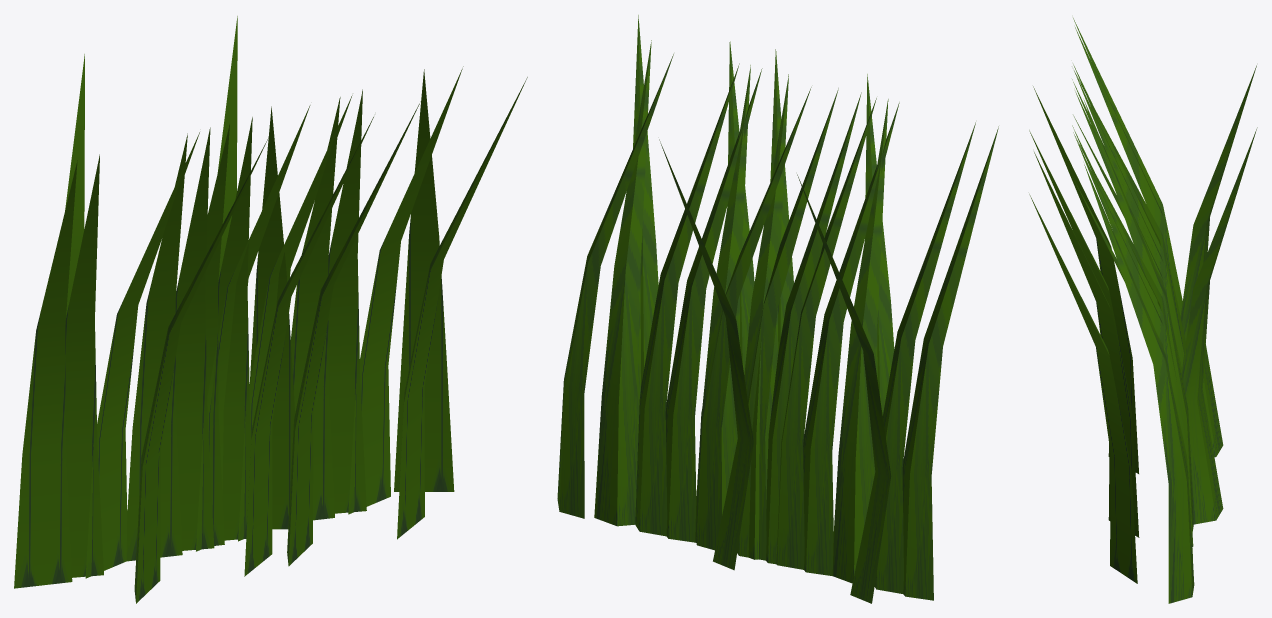
File: GrassWall001.obj
3 renders of one model, left to right at view 1: azimuth 30°, elevation 25°; view 2: azimuth 150°, elevation 25°; view 3: azimuth 270°, elevation 25°, orthographic. The views are drawn at different scales.
Parts seen in each view (by area): view 1: GrassWallModule005; view 2: GrassWallModule005; view 3: GrassWallModule005.
Boxes of the visible parts, bbox=[...] form: GrassWallModule005: bbox=[14, 16, 527, 603]; GrassWallModule005: bbox=[557, 15, 998, 603]; GrassWallModule005: bbox=[1029, 18, 1257, 603].
Bounding box in the file's own units: 24.17 × 25.56 × 12.99.
